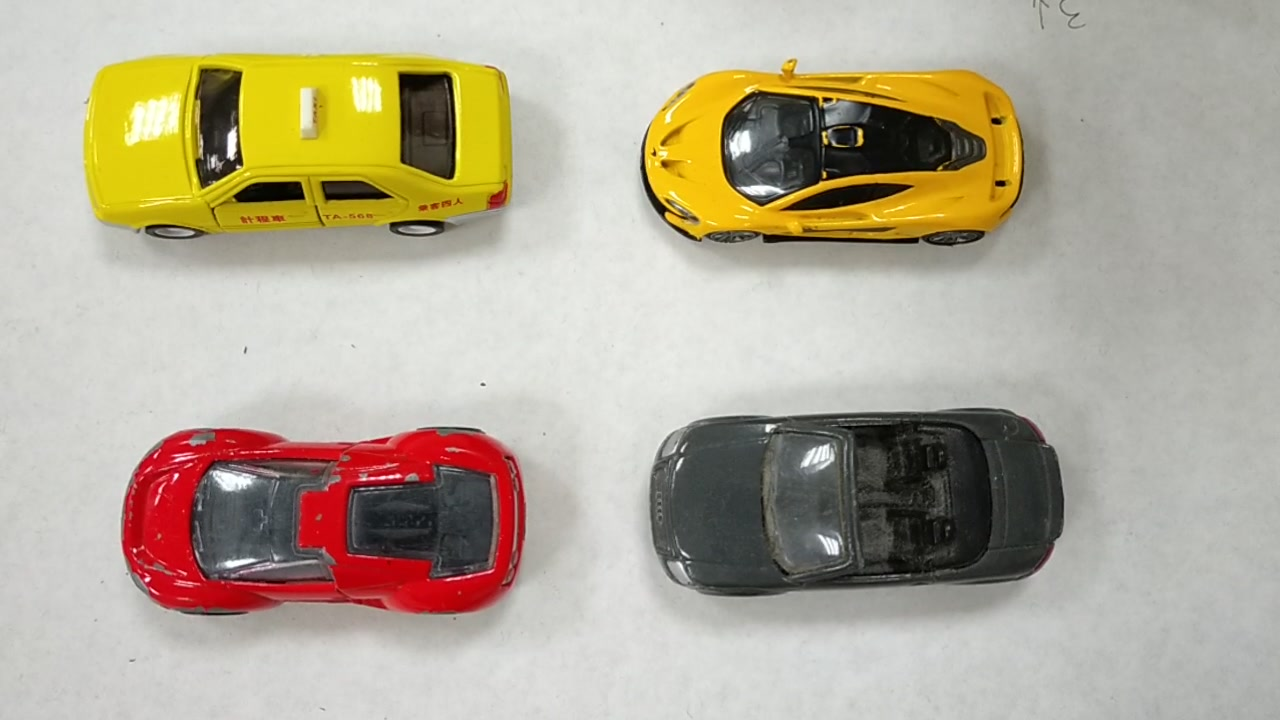car: (646, 409, 1074, 588), (110, 428, 524, 604), (84, 61, 516, 226), (643, 79, 1030, 237)
